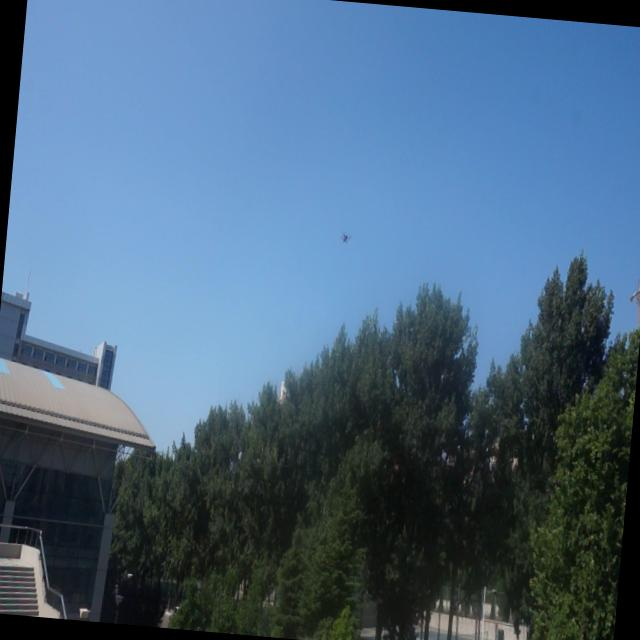drone: (337, 227, 352, 248)
